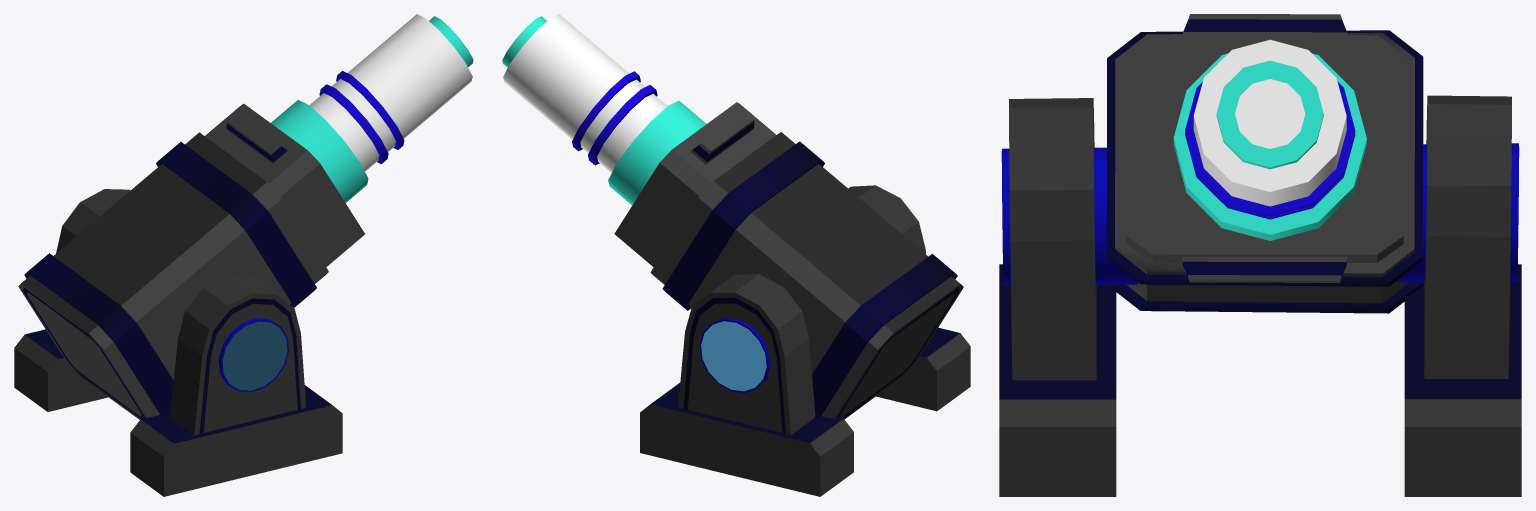
Rendered from AntiAereo.FBX.
3 renders of one model, left to right at view 1: azimuth 30°, elevation 25°; view 2: azimuth 150°, elevation 25°; view 3: azimuth 270°, elevation 25°, orthographic. The views are drawn at different scales.
Visible parts, largest first — view 1: Head, Base; view 2: Head, Base; view 3: Head, Base.
Part boxes in pixels (left/top/right/bottom): Head: left=18, top=14, right=473, bottom=419; Base: left=14, top=189, right=342, bottom=496; Head: left=502, top=14, right=963, bottom=419; Base: left=640, top=185, right=970, bottom=496; Head: left=1106, top=14, right=1423, bottom=313; Base: left=999, top=95, right=1521, bottom=496.
Size of the model in its own units: 386 by 303 by 242.
